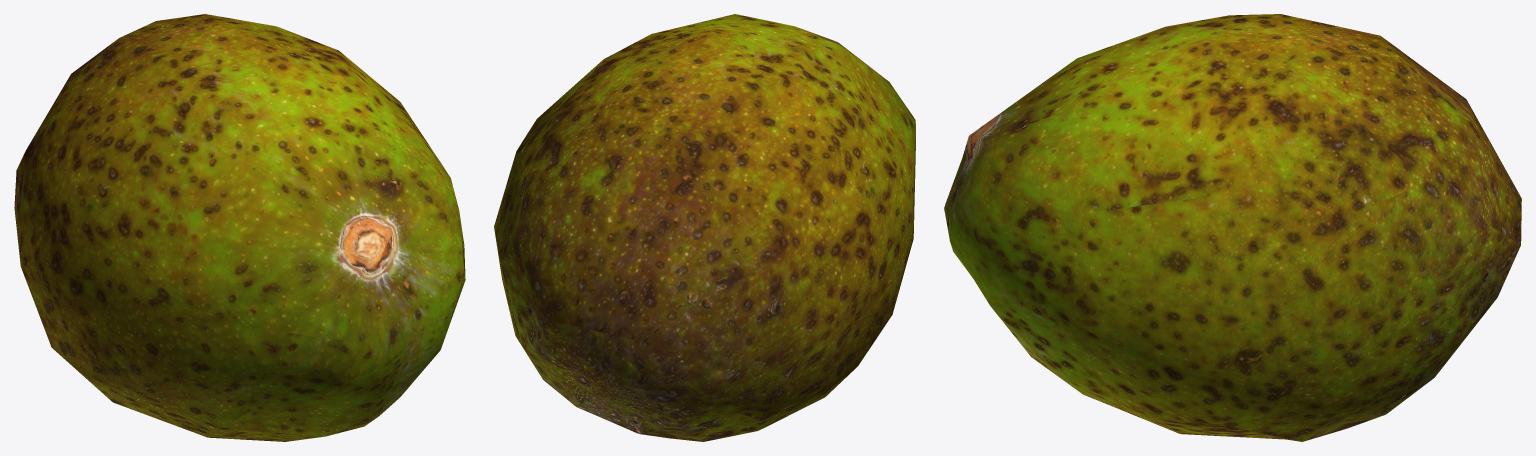
3 views of the same model, side by side, from view 1: azimuth 30°, elevation 25°; view 2: azimuth 150°, elevation 25°; view 3: azimuth 270°, elevation 25° (orthographic). The views are drawn at different scales.
Parts seen in each view (by area): view 1: 3DAvocado001-0; view 2: 3DAvocado001-0; view 3: 3DAvocado001-0.
Boxes of the visible parts, x1,y1,x2,y2 form: 3DAvocado001-0: [14, 14, 465, 441]; 3DAvocado001-0: [494, 14, 915, 441]; 3DAvocado001-0: [944, 14, 1521, 441].
Size of the model in its own units: 0.9888 by 0.9976 by 1.35.
1 material, 1 textured.
